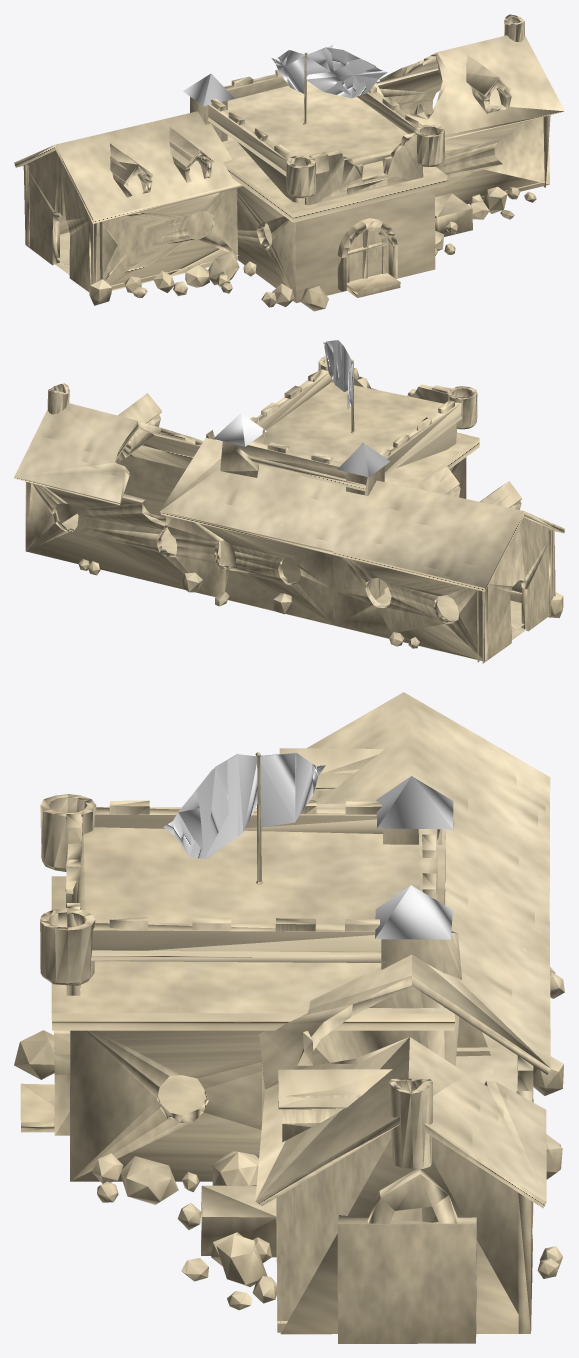
Rendered from castle_d2.8.glb.
The picture shows the model from 3 angles, top to bottom: view 1: azimuth 30°, elevation 25°; view 2: azimuth 150°, elevation 25°; view 3: azimuth 270°, elevation 25°; orthographic projection. The views are drawn at different scales.
Parts seen in each view (by area): view 1: castle_d2.8; view 2: castle_d2.8; view 3: castle_d2.8.
Boxes of the visible parts, box(x1,y1,x2,y2) form: castle_d2.8: box(14, 14, 564, 311); castle_d2.8: box(14, 340, 564, 663); castle_d2.8: box(14, 692, 564, 1343).
Size of the model in its own units: 2.9 by 1.24 by 1.61.
Materials: 2 (1 with a texture image).
